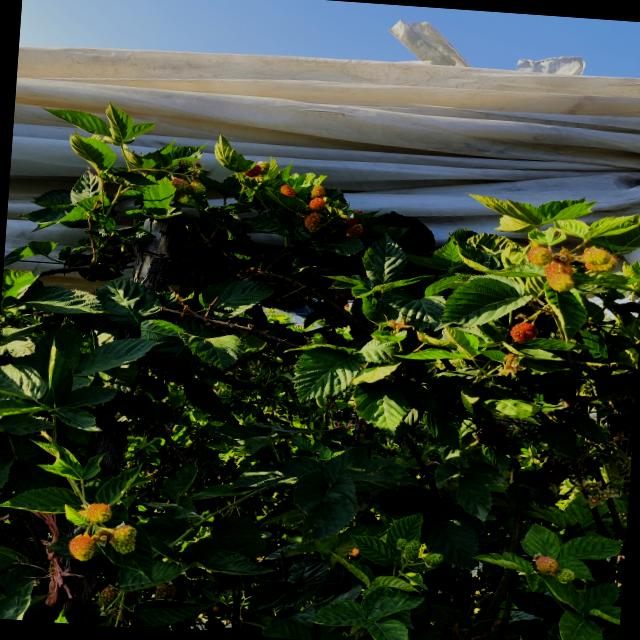maduro: (473, 418, 500, 445), (493, 437, 521, 454)
naranja: (510, 322, 538, 342), (544, 261, 573, 278), (304, 212, 321, 232), (308, 197, 325, 211), (346, 224, 363, 237), (280, 184, 296, 197), (244, 165, 261, 177), (310, 185, 325, 198), (493, 423, 507, 436), (344, 218, 360, 226)
verde: (110, 523, 136, 554), (69, 533, 95, 561), (79, 503, 112, 523), (581, 247, 611, 265), (397, 539, 421, 560), (527, 246, 552, 266), (548, 272, 574, 291), (585, 256, 617, 271), (98, 586, 117, 607), (155, 582, 175, 599), (555, 568, 575, 583), (422, 553, 443, 567), (171, 177, 189, 191), (189, 181, 205, 194), (177, 157, 194, 168), (257, 161, 270, 174)
